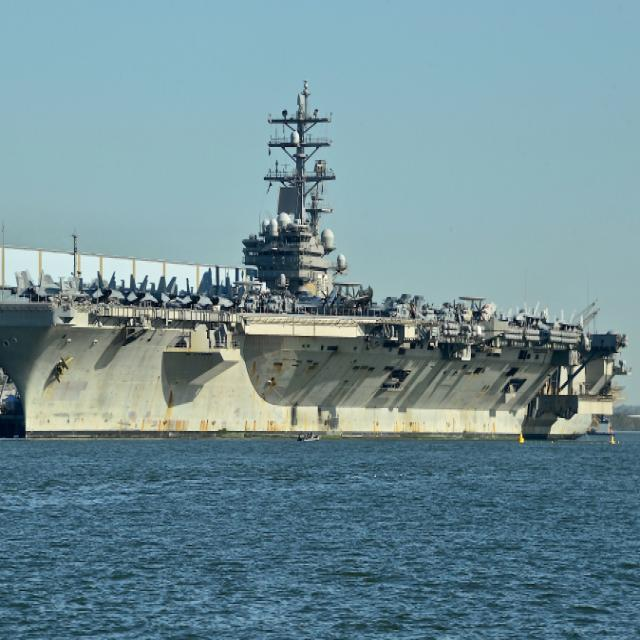Portanaves: (1, 68, 636, 449)
